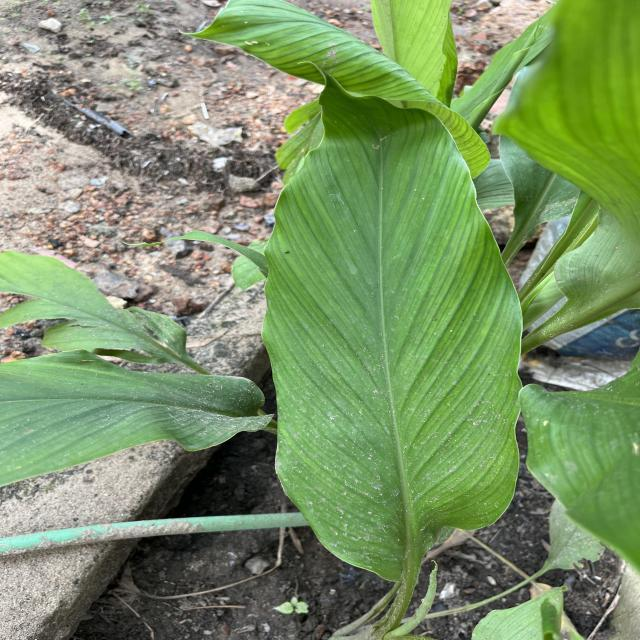Curcuma longa: (257, 57, 528, 584)
